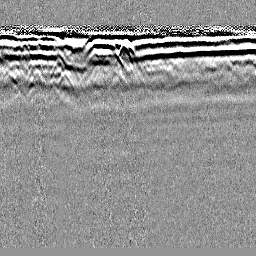cavity: (116, 39, 136, 60)
